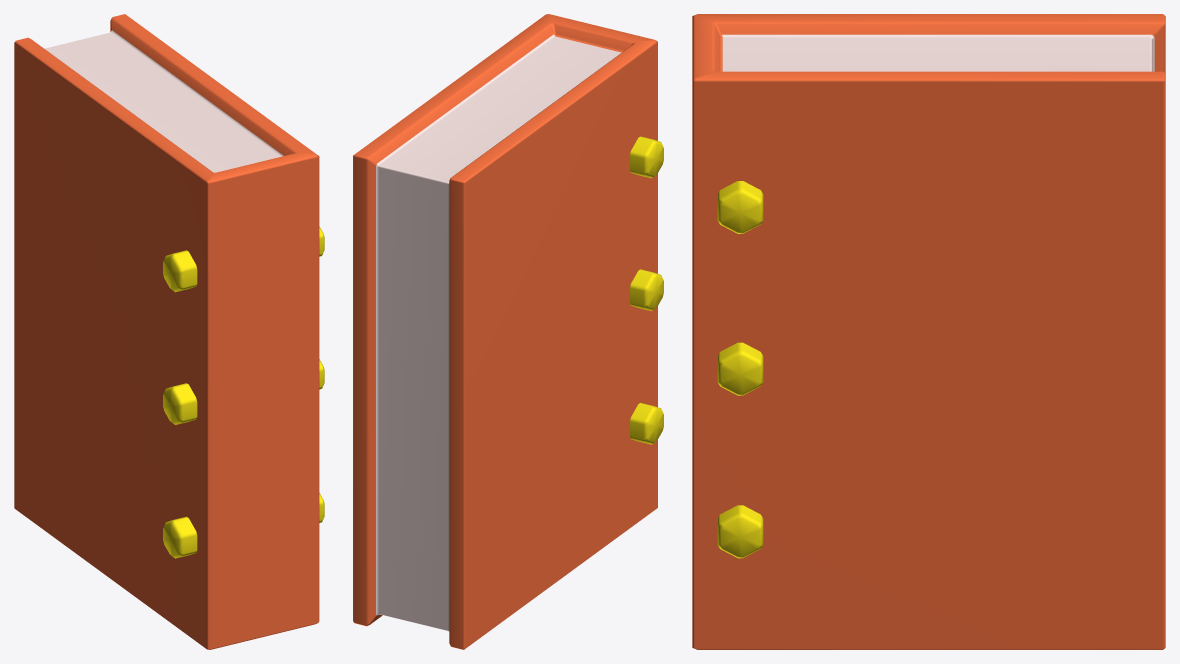
File: Public_2_Book_6.glb
3 views of the same model, side by side, from view 1: azimuth 30°, elevation 25°; view 2: azimuth 150°, elevation 25°; view 3: azimuth 270°, elevation 25° (orthographic). The views are drawn at different scales.
Parts seen in each view (by area): view 1: Public_2_Book_6; view 2: Public_2_Book_6; view 3: Public_2_Book_6.
Part boxes in pixels (x1,y1,x2,y2): Public_2_Book_6: (14, 14, 324, 649); Public_2_Book_6: (353, 14, 663, 649); Public_2_Book_6: (692, 14, 1165, 649).
Bounding box in the file's own units: 0.5178 × 1.59 × 1.19.
1 material, 1 textured.
